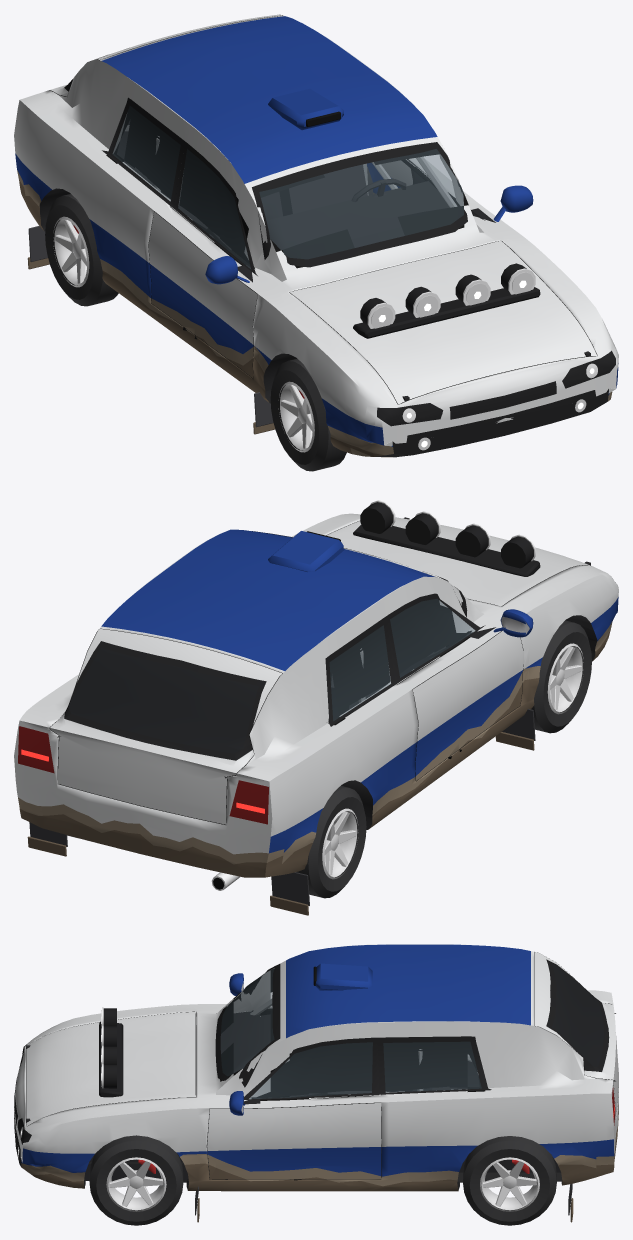
File: rally-car.glb
3 renders of one model, top to bottom at view 1: azimuth 30°, elevation 25°; view 2: azimuth 150°, elevation 25°; view 3: azimuth 270°, elevation 25°, orthographic. The views are drawn at different scales.
Visible parts, largest first — view 1: body, bonnet_body, glass_windshield, interior, door_R_body, light_pod, wheel_FR_mesh, door_R_glass_side_R, wheel_RR_mesh, glass_side_R, roof_scoop, mud_flaps (+4 smaller); view 2: body, boot_body, door_R_body, bonnet_body, light_pod, wheel_RR_mesh, wheel_FR_mesh, door_R_glass_side_R, glass_side_R, mud_flaps, roof_scoop, mirror_R (+1 smaller); view 3: body, door_L_body, bonnet_body, boot_body, wheel_FL_mesh, wheel_RL_mesh, door_L_glass_side_L, glass_side_L, glass_windshield, interior, light_pod, roof_scoop.
Boxes of the visible parts, bbox=[...] form: body: bbox=[14, 15, 618, 457]; bonnet_body: bbox=[289, 240, 597, 404]; glass_windshield: bbox=[252, 142, 467, 267]; interior: bbox=[117, 119, 495, 282]; door_R_body: bbox=[148, 206, 257, 378]; light_pod: bbox=[353, 263, 540, 338]; wheel_FR_mesh: bbox=[270, 358, 346, 471]; door_R_glass_side_R: bbox=[170, 142, 257, 275]; wheel_RR_mesh: bbox=[45, 194, 118, 306]; glass_side_R: bbox=[102, 97, 185, 205]; roof_scoop: bbox=[268, 88, 343, 130]; mud_flaps: bbox=[27, 226, 275, 434]; body: bbox=[14, 513, 618, 877]; boot_body: bbox=[50, 628, 282, 824]; door_R_body: bbox=[396, 630, 523, 780]; bonnet_body: bbox=[326, 517, 590, 606]; light_pod: bbox=[353, 500, 540, 576]; wheel_RR_mesh: bbox=[296, 786, 366, 898]; wheel_FR_mesh: bbox=[531, 620, 591, 733]; door_R_glass_side_R: bbox=[386, 593, 485, 682]; glass_side_R: bbox=[325, 616, 397, 726]; mud_flaps: bbox=[27, 708, 535, 915]; roof_scoop: bbox=[268, 531, 343, 571]; mirror_R: bbox=[493, 609, 533, 637]; body: bbox=[14, 944, 618, 1191]; door_L_body: bbox=[207, 1094, 381, 1180]; bonnet_body: bbox=[26, 1011, 196, 1126]; boot_body: bbox=[534, 952, 618, 1118]; wheel_FL_mesh: bbox=[89, 1135, 183, 1225]; wheel_RL_mesh: bbox=[463, 1136, 556, 1225]; door_L_glass_side_L: bbox=[244, 1037, 379, 1099]; glass_side_L: bbox=[377, 1036, 491, 1094]; glass_windshield: bbox=[215, 964, 280, 1087]; interior: bbox=[220, 1011, 561, 1181]; light_pod: bbox=[99, 1007, 123, 1097]; roof_scoop: bbox=[313, 963, 372, 990].
Size of the model in its own units: 2.08 by 1.49 by 4.05.
